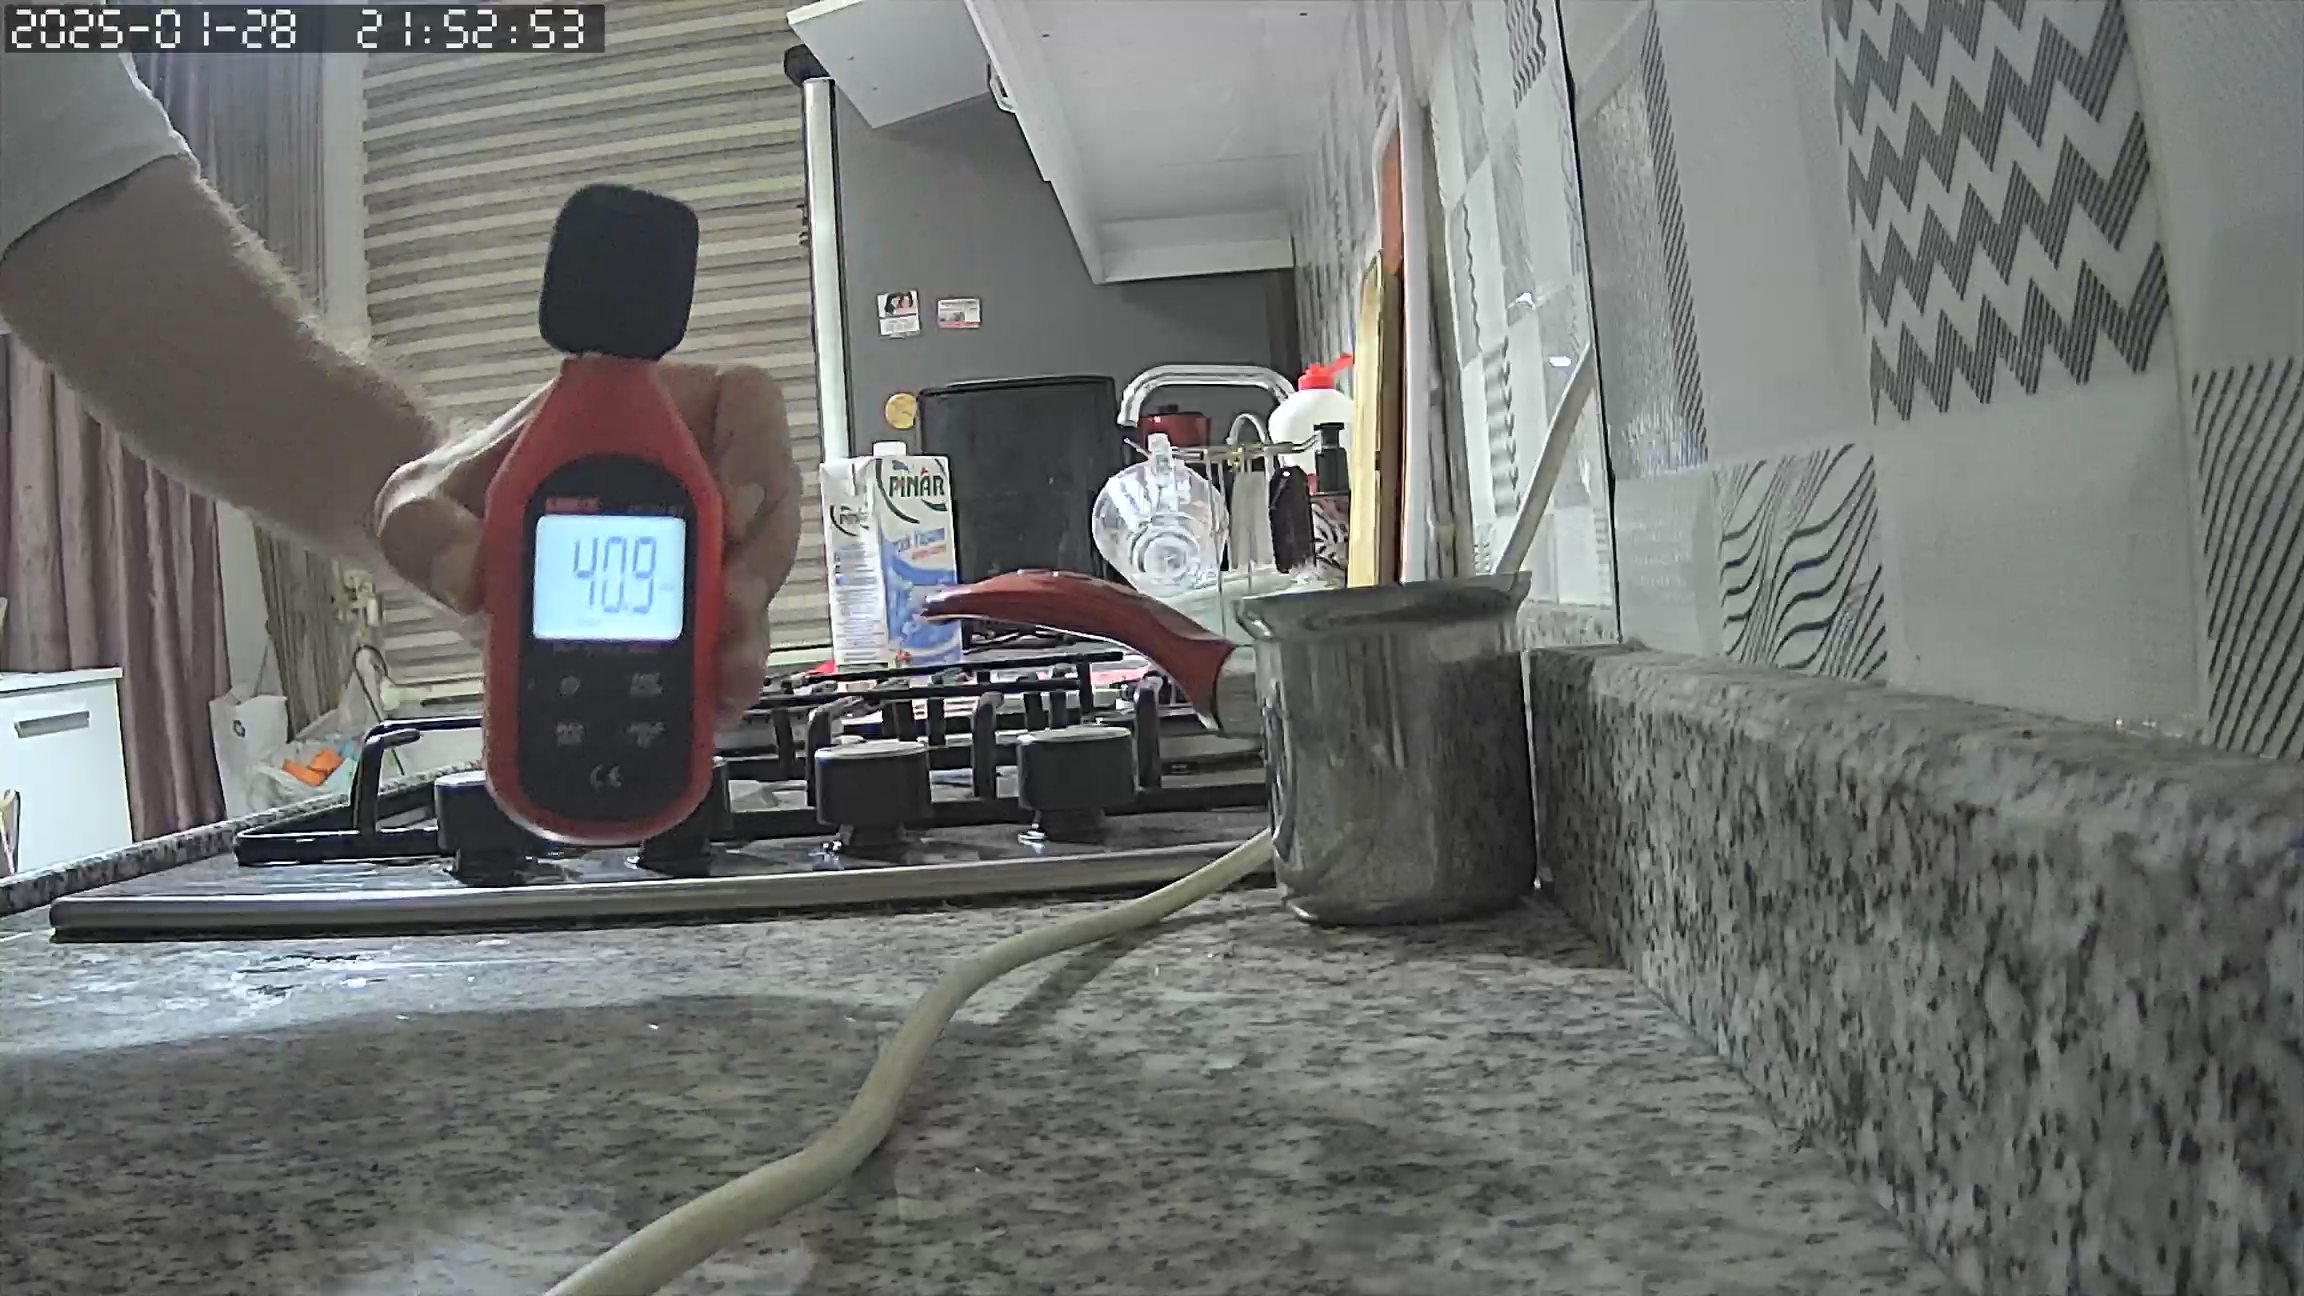screen: (532, 513, 684, 642)
